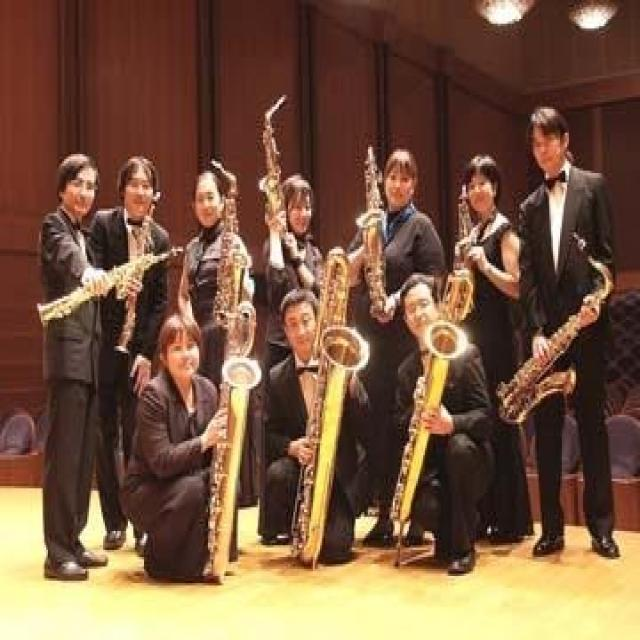saxophone: (386, 266, 480, 552), (495, 229, 617, 430), (306, 243, 375, 573), (218, 310, 264, 582), (209, 158, 251, 325), (257, 94, 291, 269), (355, 155, 391, 315), (445, 181, 486, 308)
